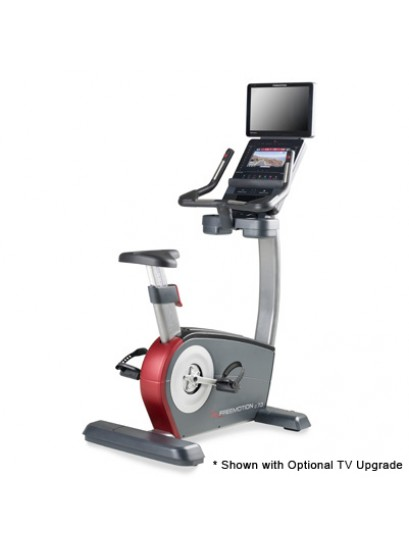gym_bike: (87, 77, 319, 480)
